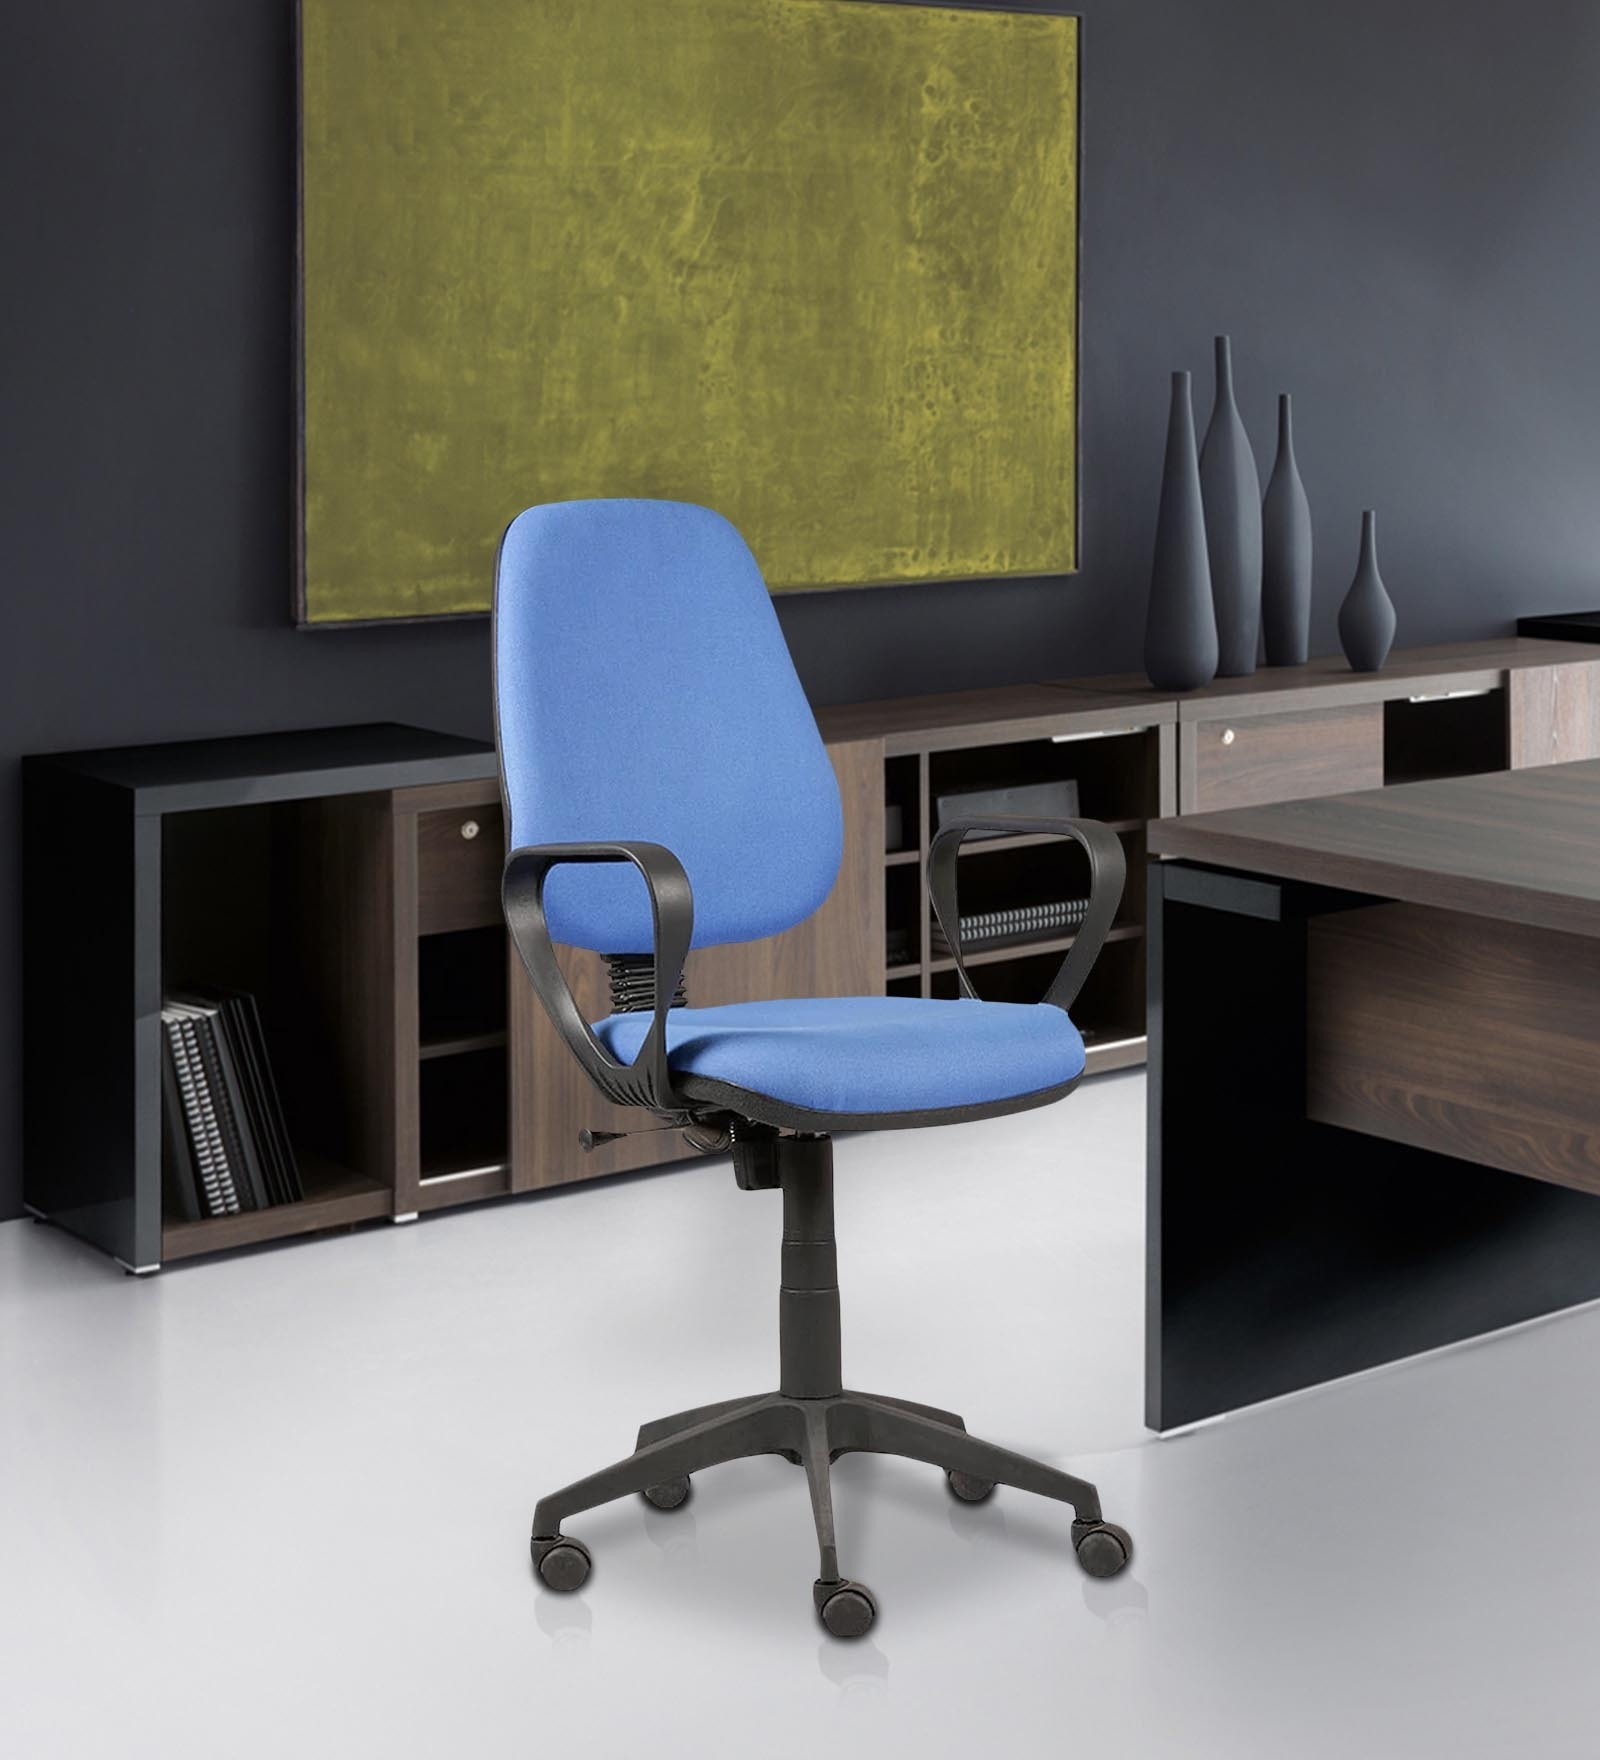Star Ergonomic Chair in Blue Colour by Parin: (434, 440, 1146, 1697)
